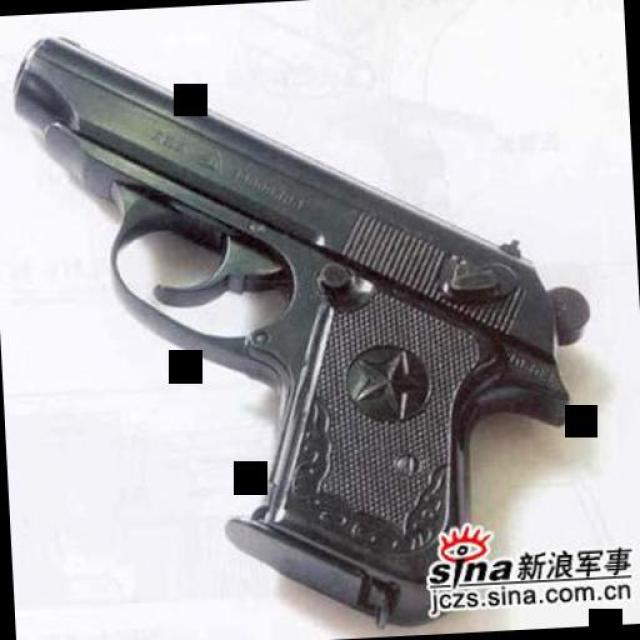gun: (2, 7, 603, 640)
